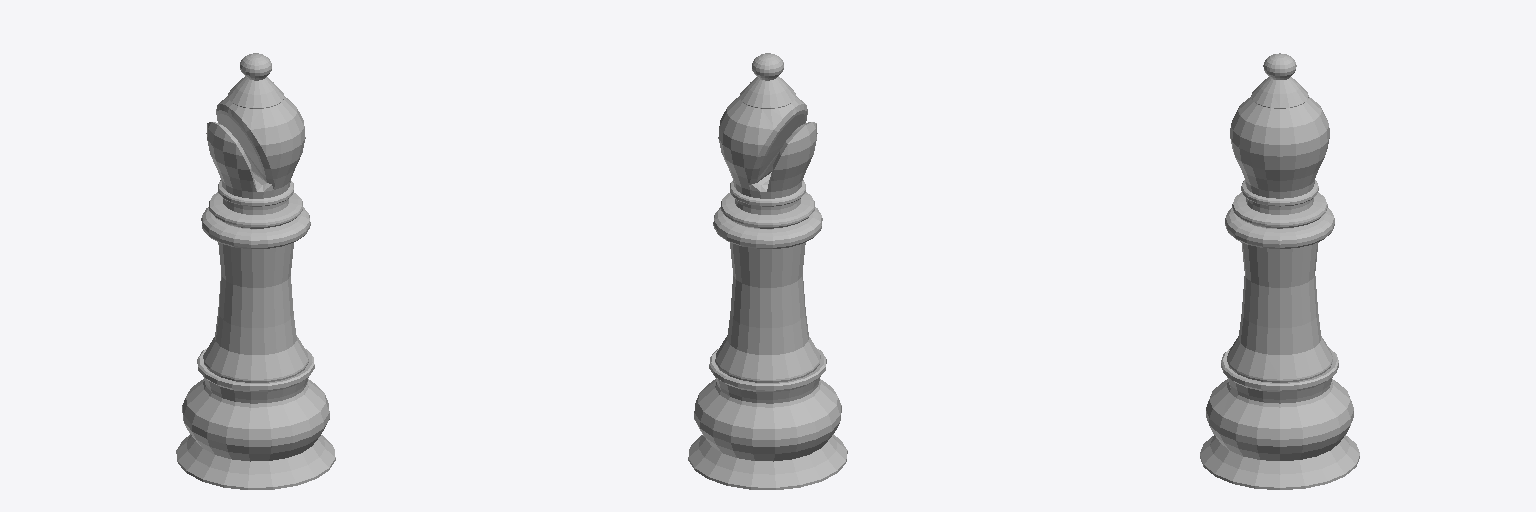
The picture shows the model from 3 angles: view 1: azimuth 30°, elevation 25°; view 2: azimuth 150°, elevation 25°; view 3: azimuth 270°, elevation 25°; orthographic projection.
Parts seen in each view (by area): view 1: Bishop1_Bishop1Shape; view 2: Bishop1_Bishop1Shape; view 3: Bishop1_Bishop1Shape.
Boxes of the visible parts, box(x1,y1,x2,y2) form: Bishop1_Bishop1Shape: box(176, 53, 335, 489); Bishop1_Bishop1Shape: box(688, 53, 847, 489); Bishop1_Bishop1Shape: box(1200, 53, 1359, 489).
Size of the model in its own units: 0.9827 by 2.73 by 0.9902.
1 materials, 1 textured.